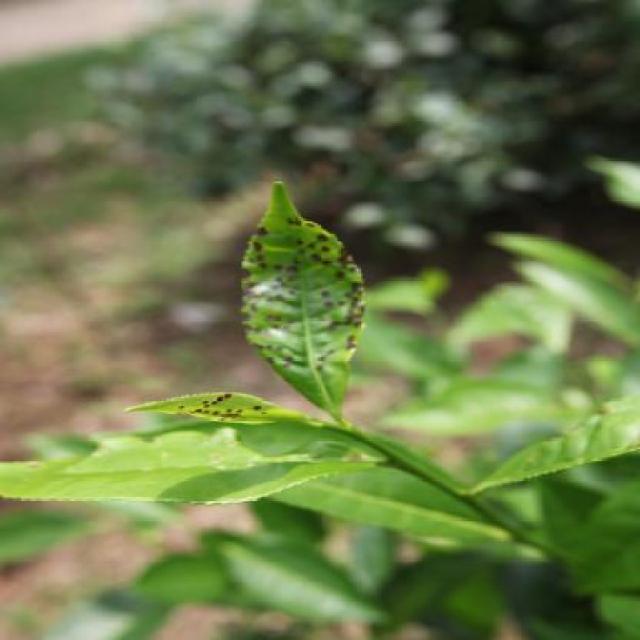Tea Mosquito bug infested leaf: (226, 198, 365, 442), (115, 382, 294, 438)
